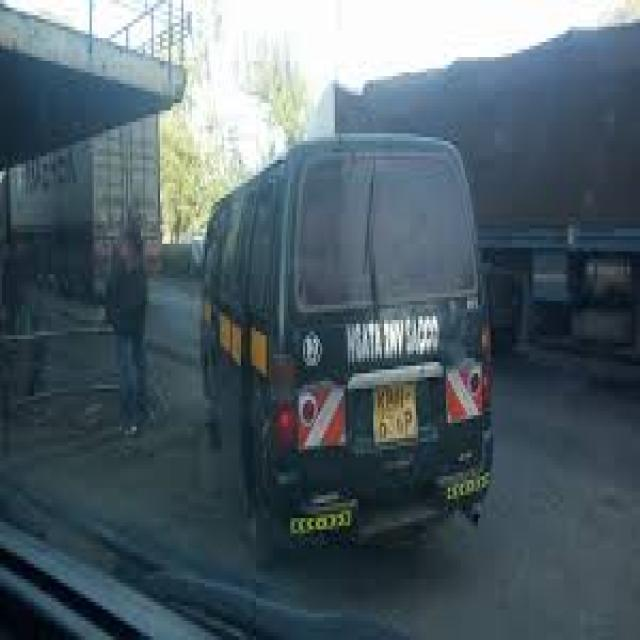matatu: (176, 82, 537, 602)
